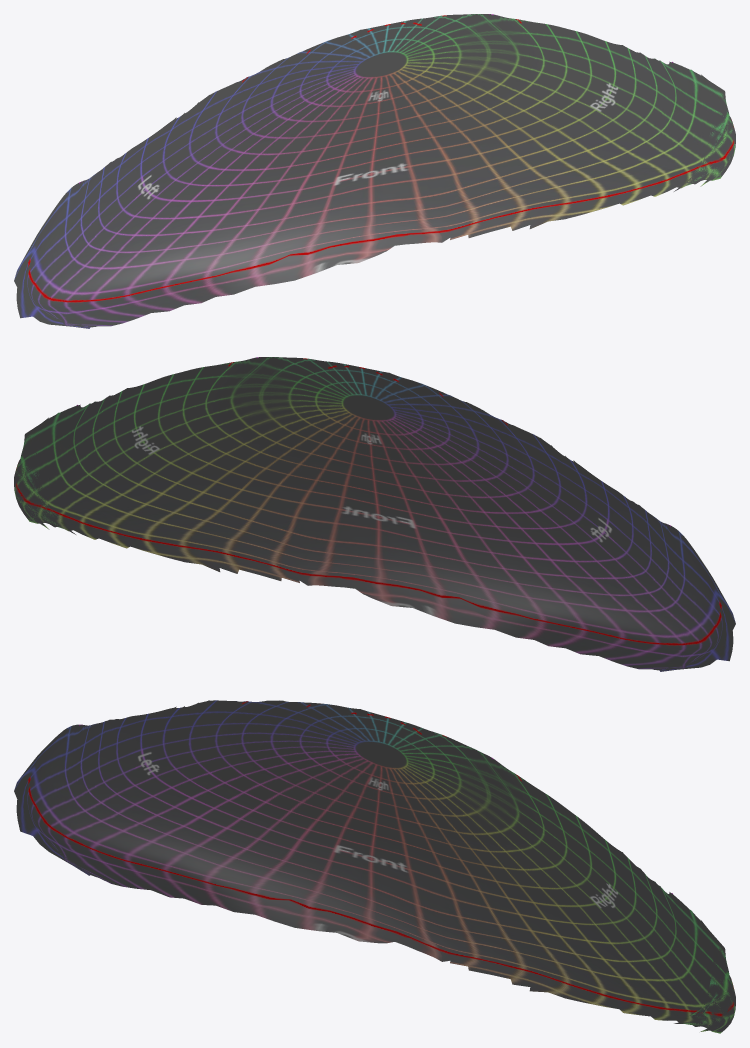
The model's file is final-warpmesh_v7smooth_manual_blender2.obj.
3 renders of one model, top to bottom at view 1: azimuth 30°, elevation 25°; view 2: azimuth 150°, elevation 25°; view 3: azimuth 330°, elevation 25°, orthographic.
Visible parts, largest first — view 1: warpmesh_v7; view 2: warpmesh_v7; view 3: warpmesh_v7.
Boxes of the visible parts, x1=… form: warpmesh_v7: x1=14, y1=14, x2=735, y2=328; warpmesh_v7: x1=14, y1=357, x2=735, y2=671; warpmesh_v7: x1=14, y1=700, x2=735, y2=1033.
Size of the model in its own units: 0.8997 by 0.2871 by 4.9e-05.
